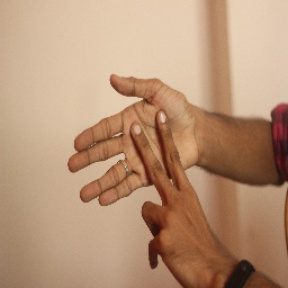N: (71, 70, 211, 268)
